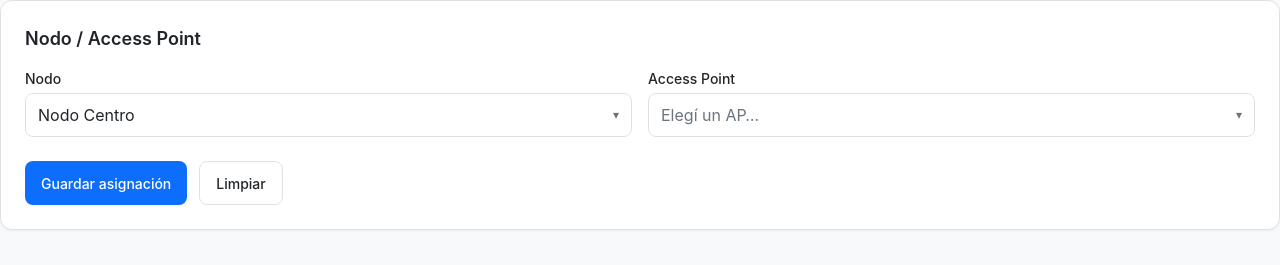
Scenario: ContractNetworkAssignmentPicker › renders AP options for the currently selected node
Step 1. Click the dropdown named "access point" → [710, 115], box left=648, top=93, right=1255, bottom=137
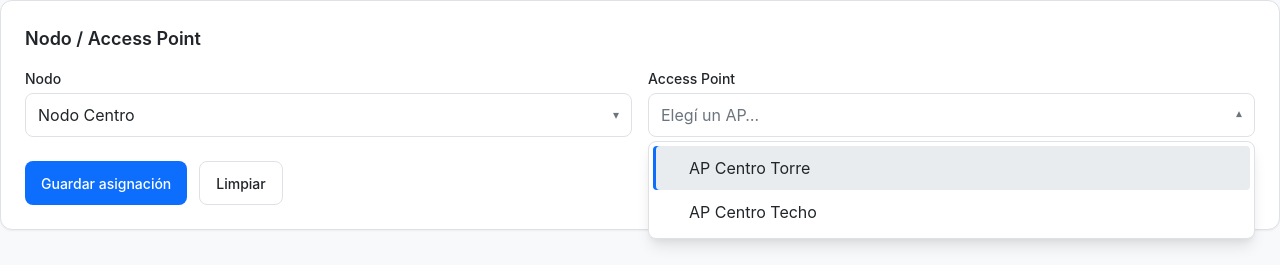
Now the option "AP Centro Torre" is shown, box left=653, top=146, right=1250, bottom=190
Now the option "AP Centro Techo" is shown, box left=689, top=202, right=817, bottom=222
